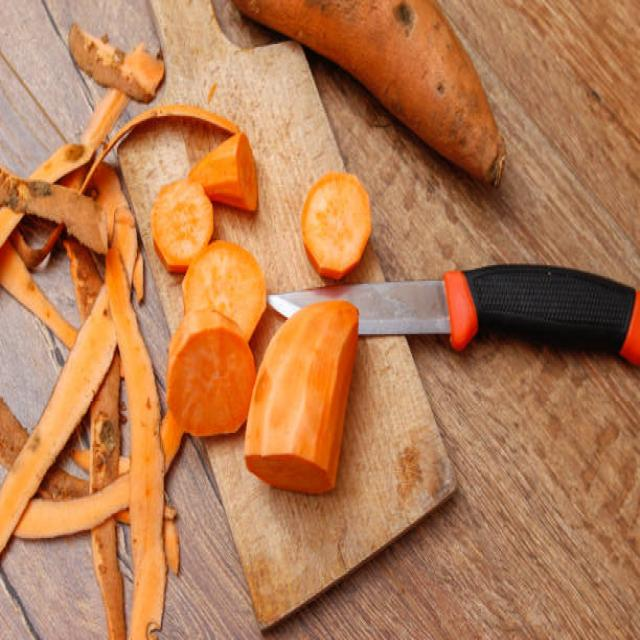Sweet Potato: (329, 0, 515, 181), (302, 173, 376, 273)
